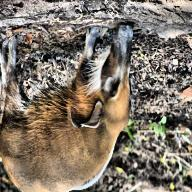boar: (0, 22, 134, 192)
